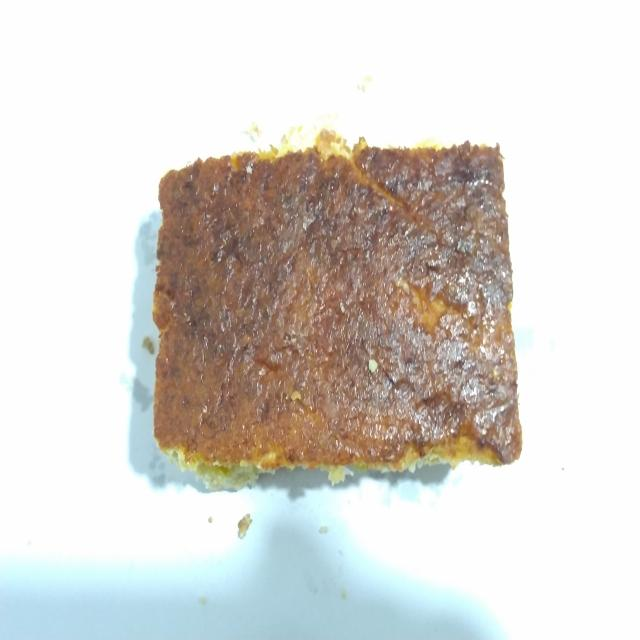Food: (136, 132, 528, 495)
